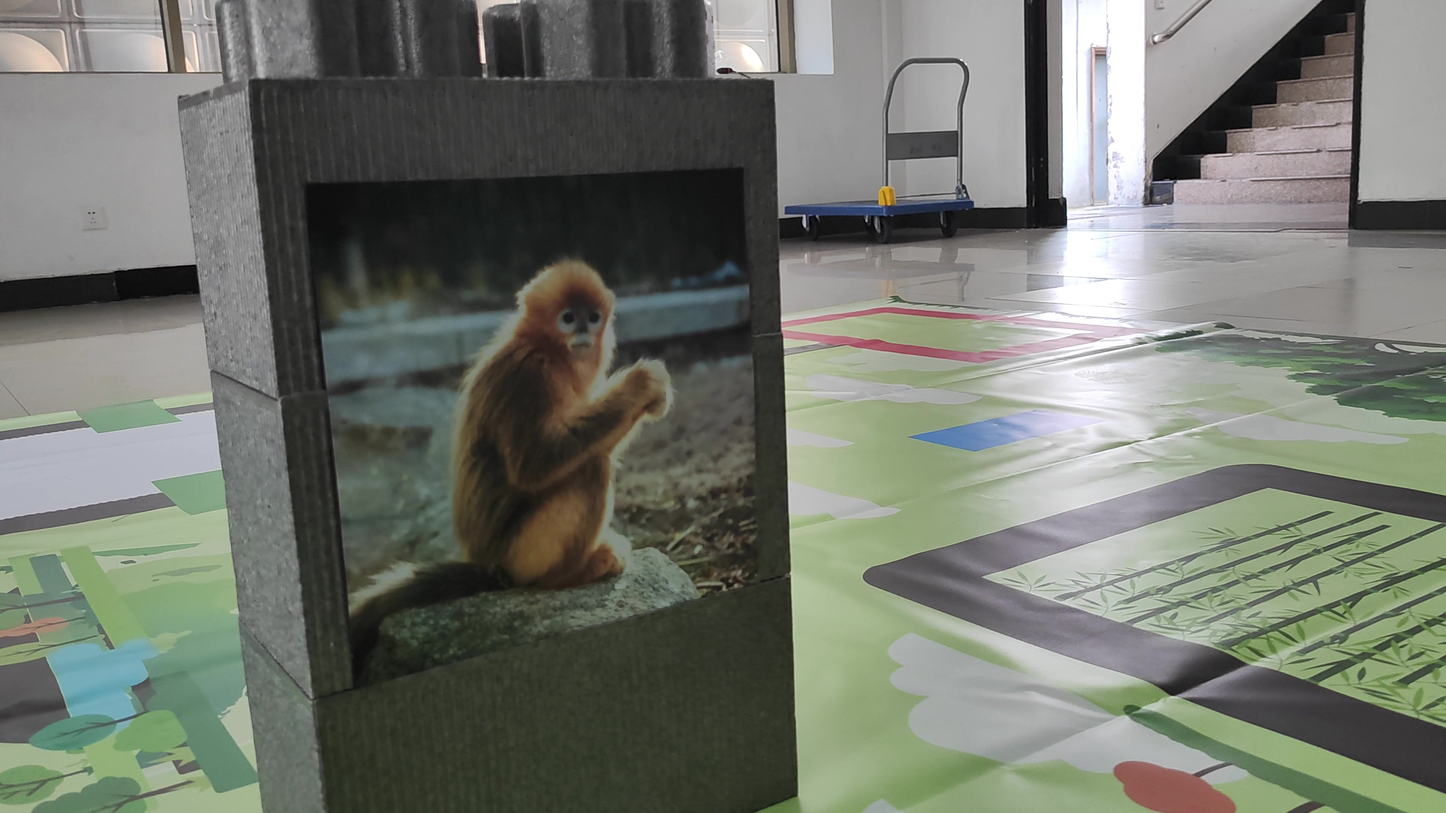monkey: (340, 221, 671, 649)
